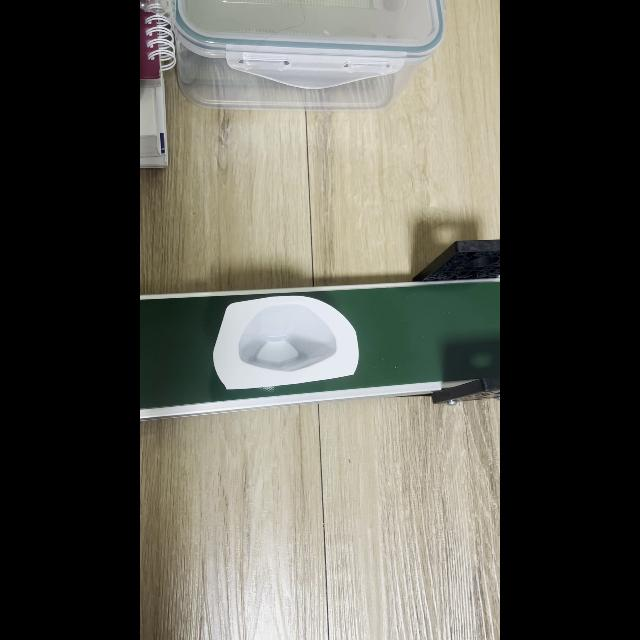clean: (213, 294, 359, 390)
